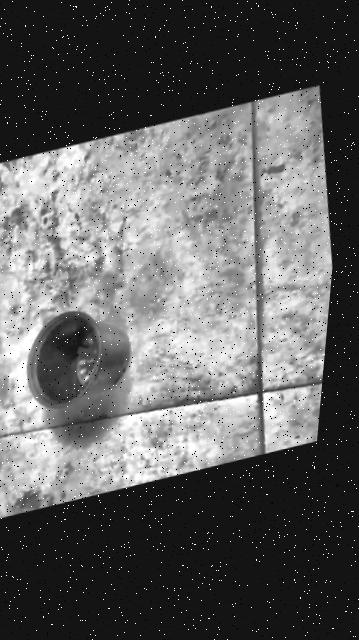pot: (14, 296, 140, 416)
